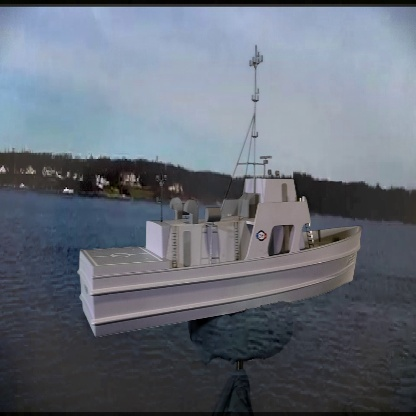YP689: (77, 41, 361, 340)
